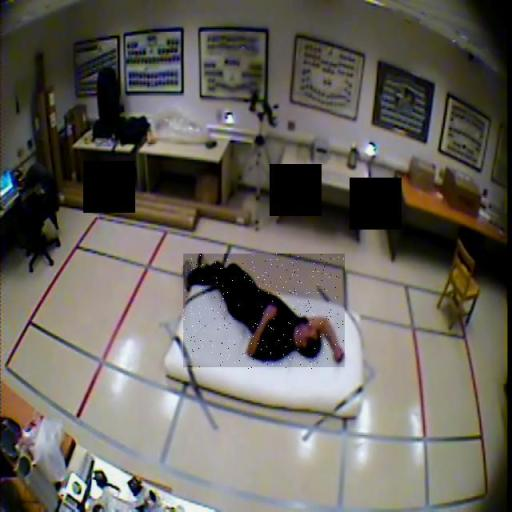Fall: (183, 255, 345, 370)
